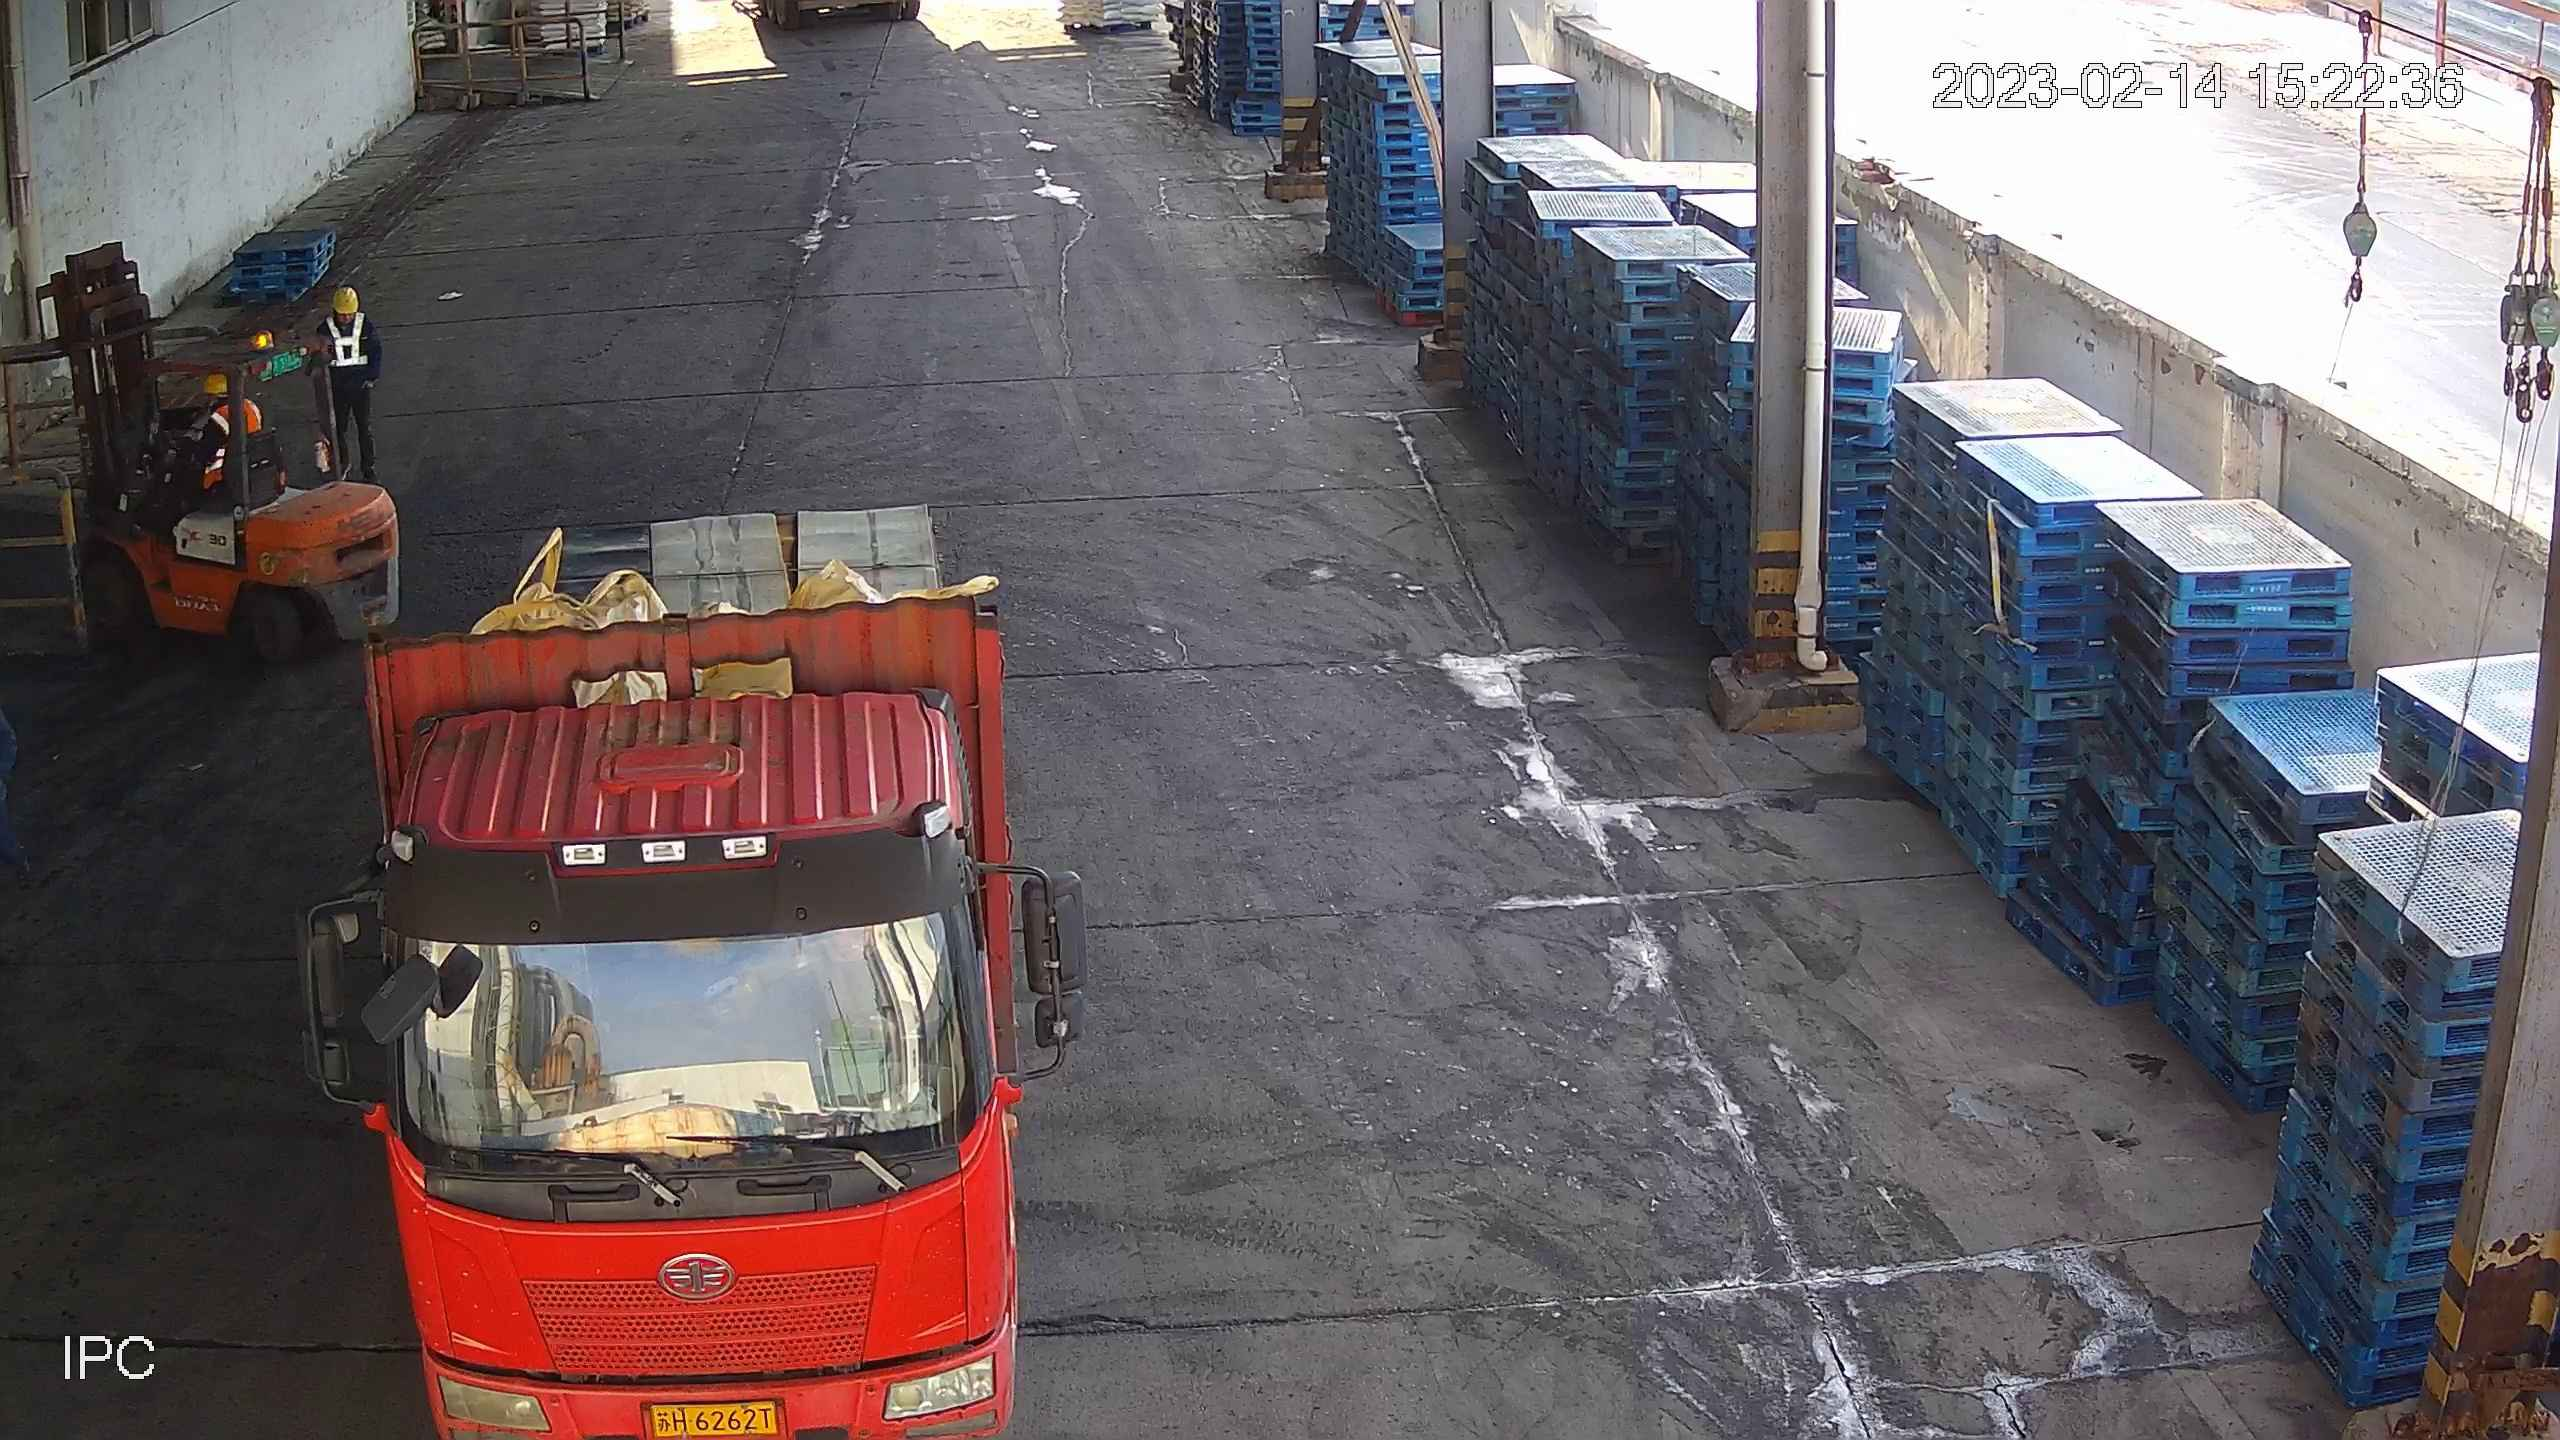head: (193, 372, 263, 452), (309, 281, 379, 345)
helmet: (332, 287, 359, 314), (201, 373, 230, 394)
people: (309, 282, 383, 488)
truck: (295, 500, 1098, 1440)
